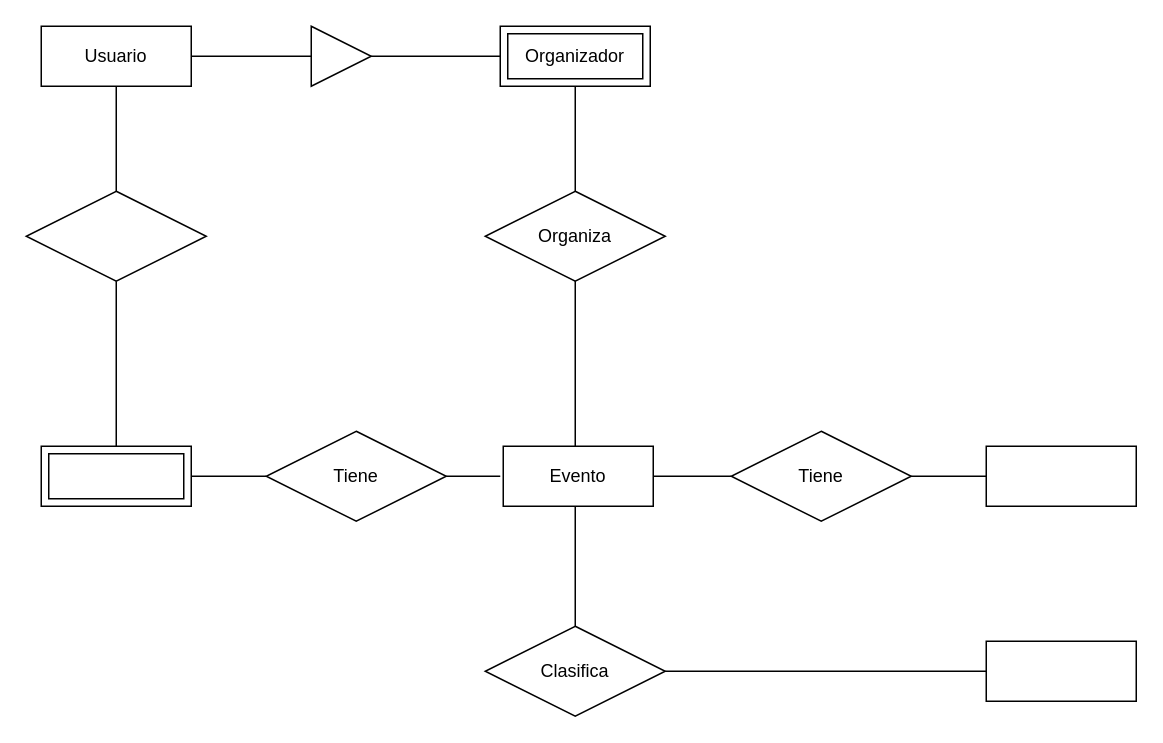
Image size: 1163x743. Some labels were removed from this diagram. Here are the shapes that lost their labels. From the top down, the centre of each, then its label:
At (x=115, y=235): "Inscribirse".
At (x=115, y=475): "Inscripción".
At (x=1060, y=475): "Ubicación".
At (x=1060, y=670): "Categoría".
